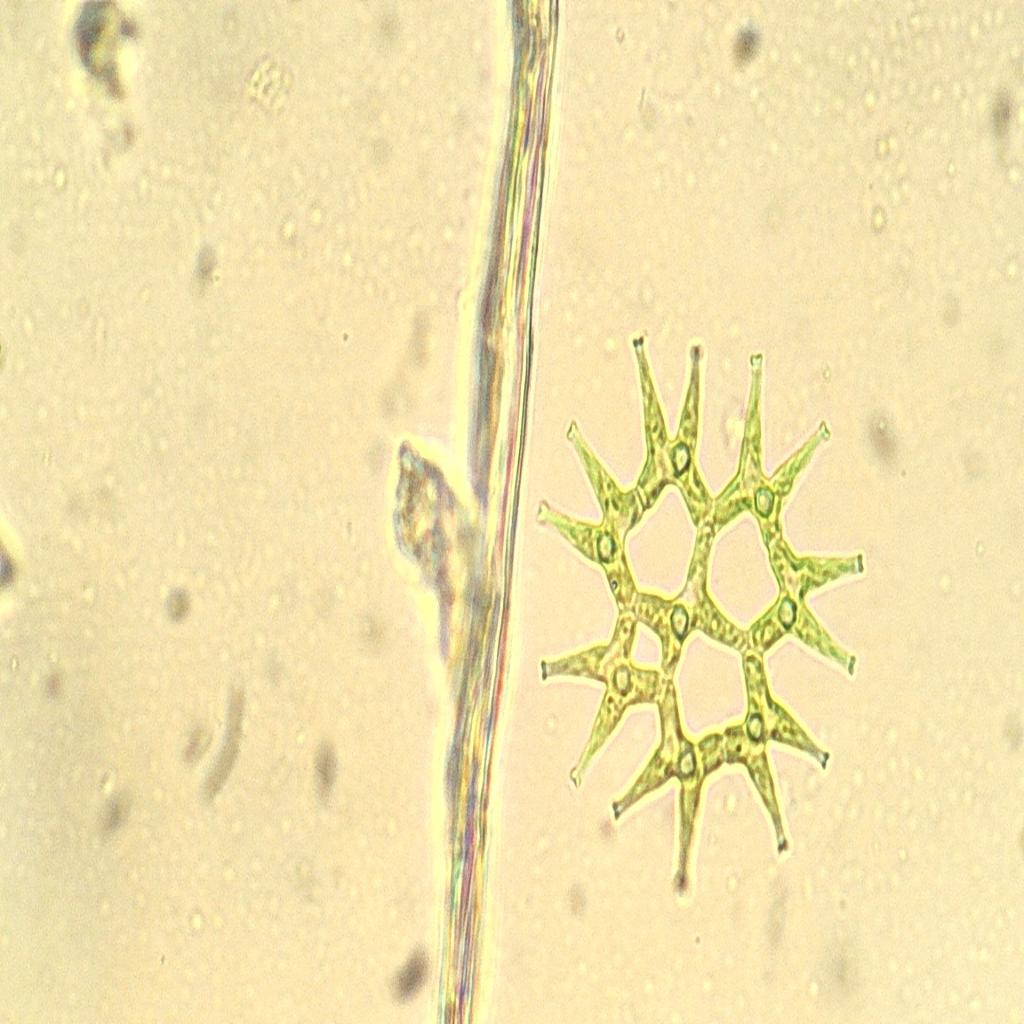Pediastrum_75T: (531, 304, 870, 910)
